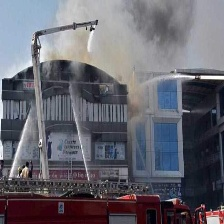smoke: (37, 1, 198, 76)
